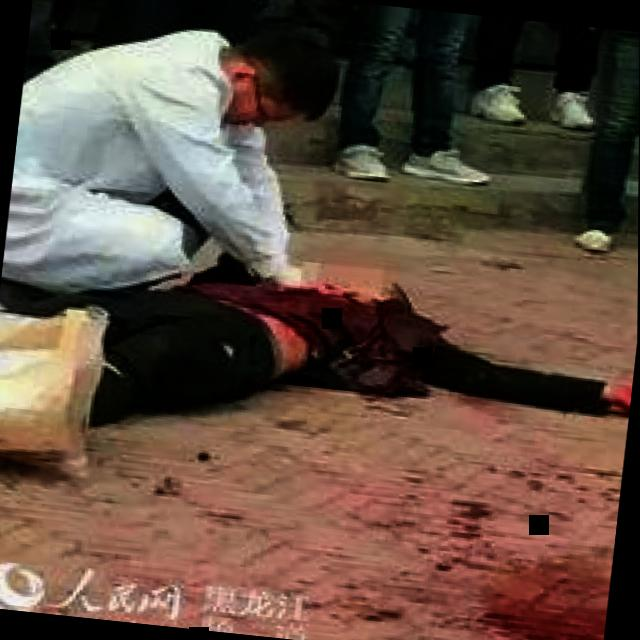Fall-Detected: (0, 215, 639, 497)
